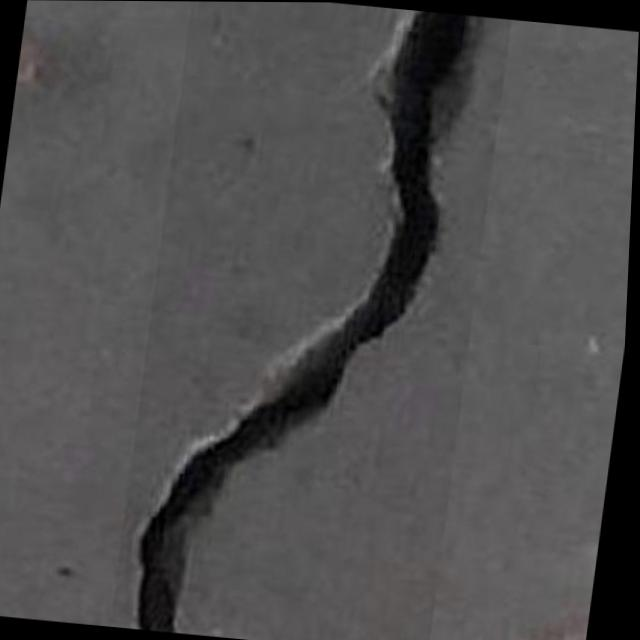Crack: (126, 1, 523, 640)
